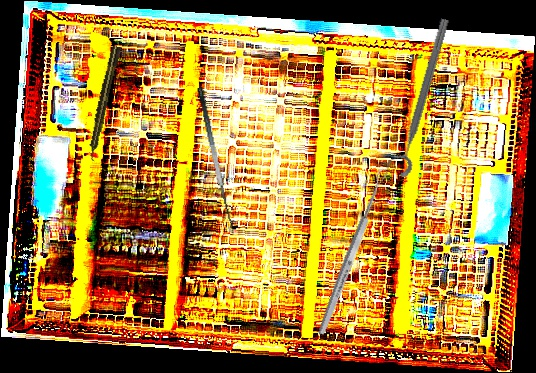Fixation Ring: (383, 14, 454, 179)
Handpiece: (84, 45, 123, 162)
Spatula Surgical: (195, 84, 242, 225)
Surgical Spoon: (315, 166, 390, 338)
